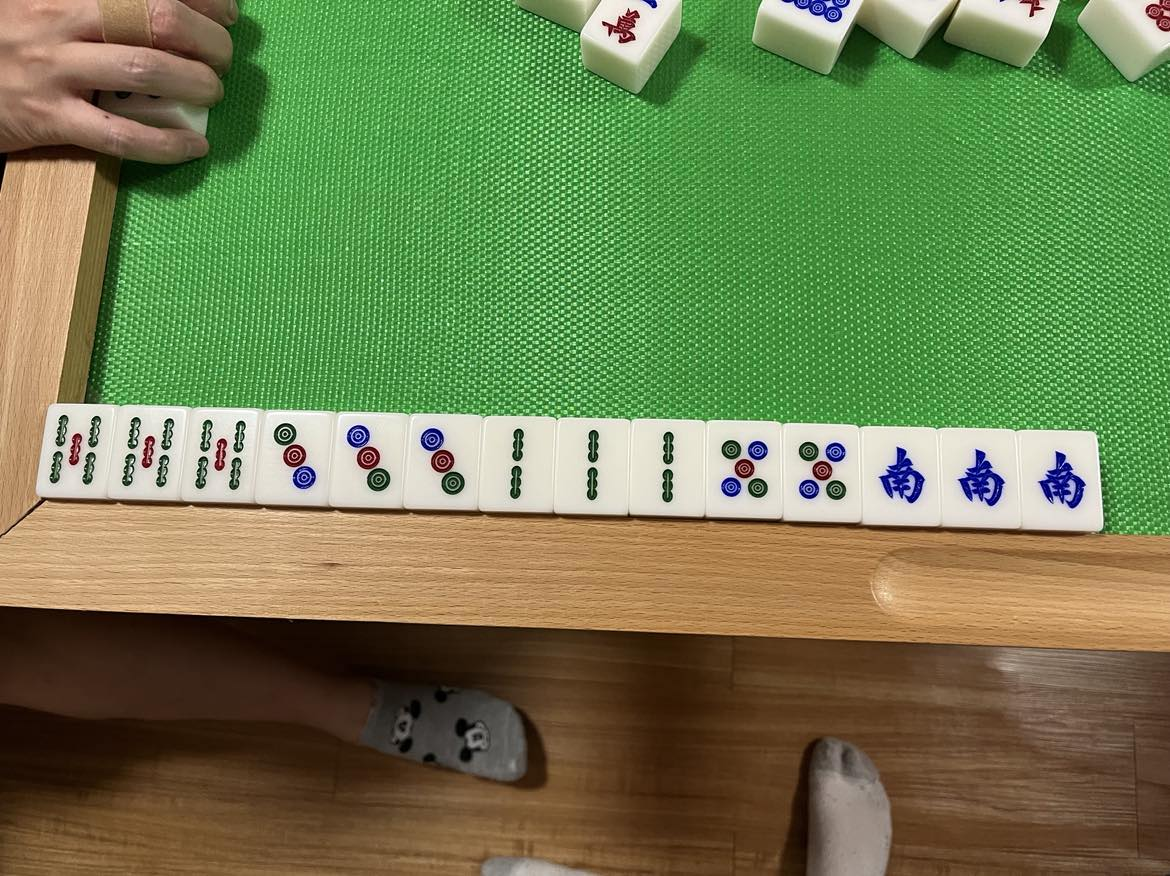bamboo-five: (113, 408, 176, 498), (45, 408, 105, 495), (190, 415, 252, 496)
bamboo-two: (485, 420, 552, 506), (560, 423, 623, 510), (637, 426, 700, 511)
circle-five: (707, 432, 775, 513), (788, 434, 852, 507)
circle-three: (337, 419, 399, 501), (411, 419, 472, 500), (267, 418, 322, 496)
honor-south_wind: (1024, 438, 1096, 525), (863, 432, 935, 518), (944, 436, 1013, 521)
